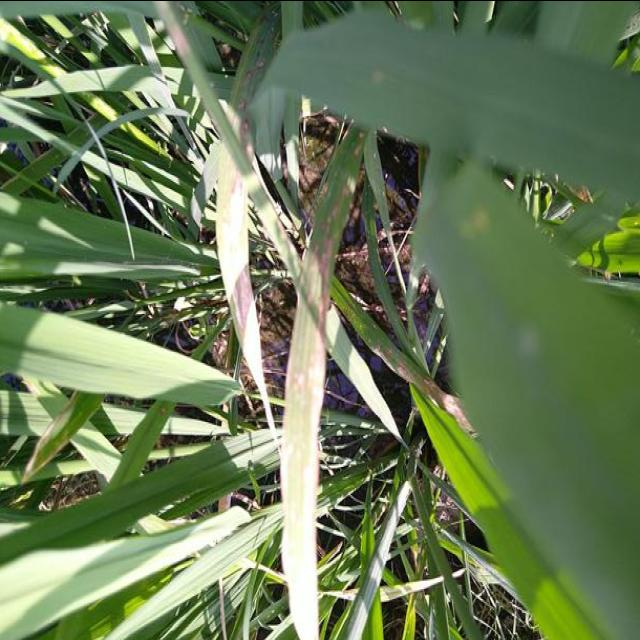Leaf Streak: (282, 126, 364, 640), (329, 275, 478, 436), (214, 138, 277, 438), (220, 1, 282, 163), (21, 390, 105, 483)
